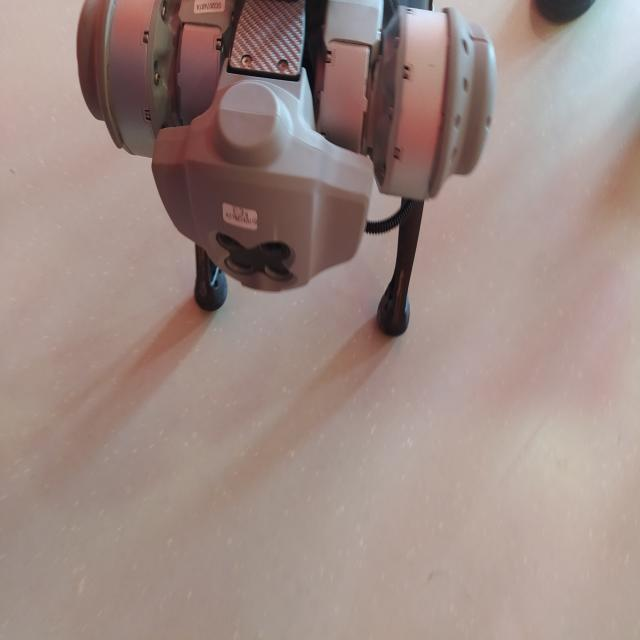unitree-go1-robot: (74, 0, 500, 349)
